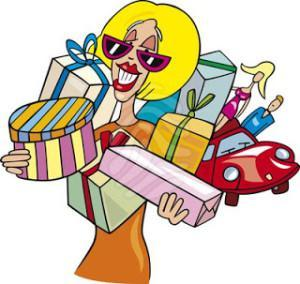car: (195, 125, 300, 208)
person: (1, 1, 206, 282), (213, 59, 278, 132), (241, 93, 285, 137)
